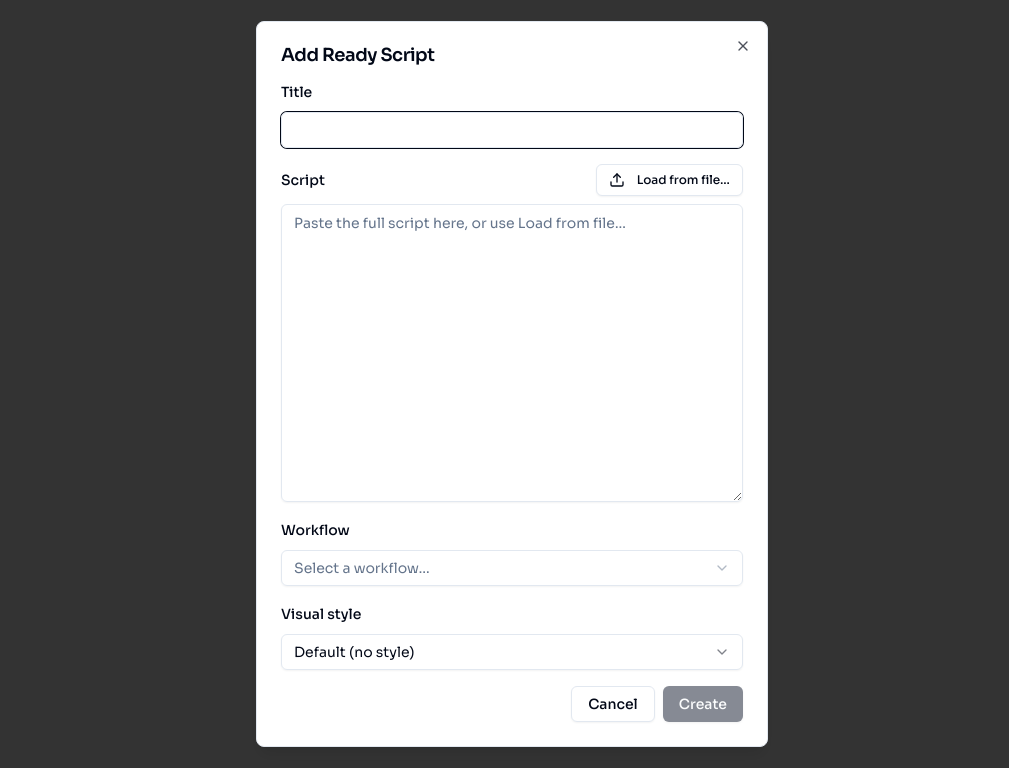
Test: AddReadyScriptModal › submit is disabled until title, script, and workflow are all set
Expected: the button "Create" is disabled, [663,686,743,722]
Type "t" into the field labelled "Title" at (512, 130), box [281,112,743,148]
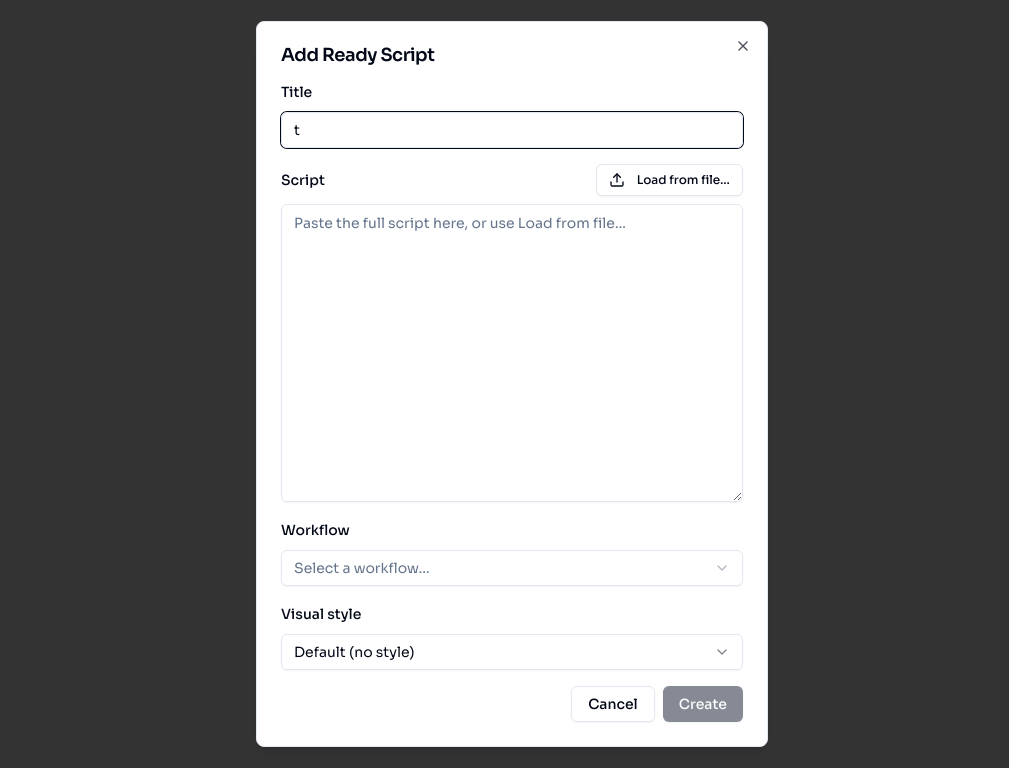
Expected: the button "Create" is disabled, [663,686,743,722]
Type "Hello." into the text box labelled "Script" at (512, 353), box [281,204,743,502]
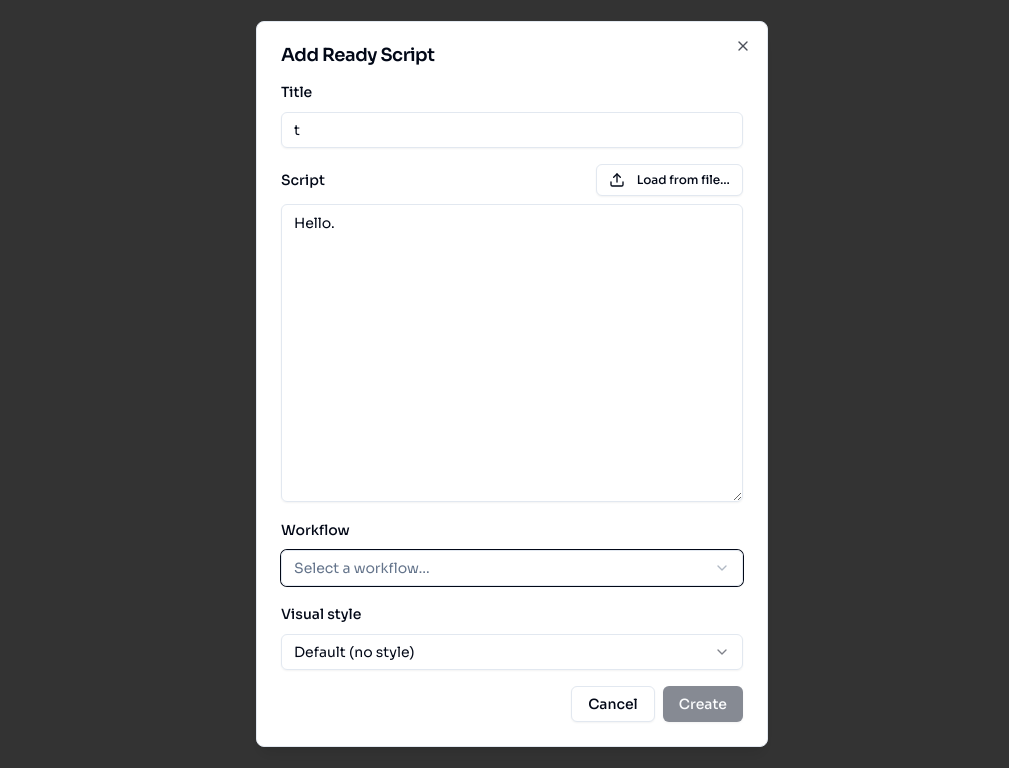
Expected: the button "Create" is disabled, [663,686,743,722]
Press Enter in the dropdown labelled "Select a workflow…", box [281,550,743,586]
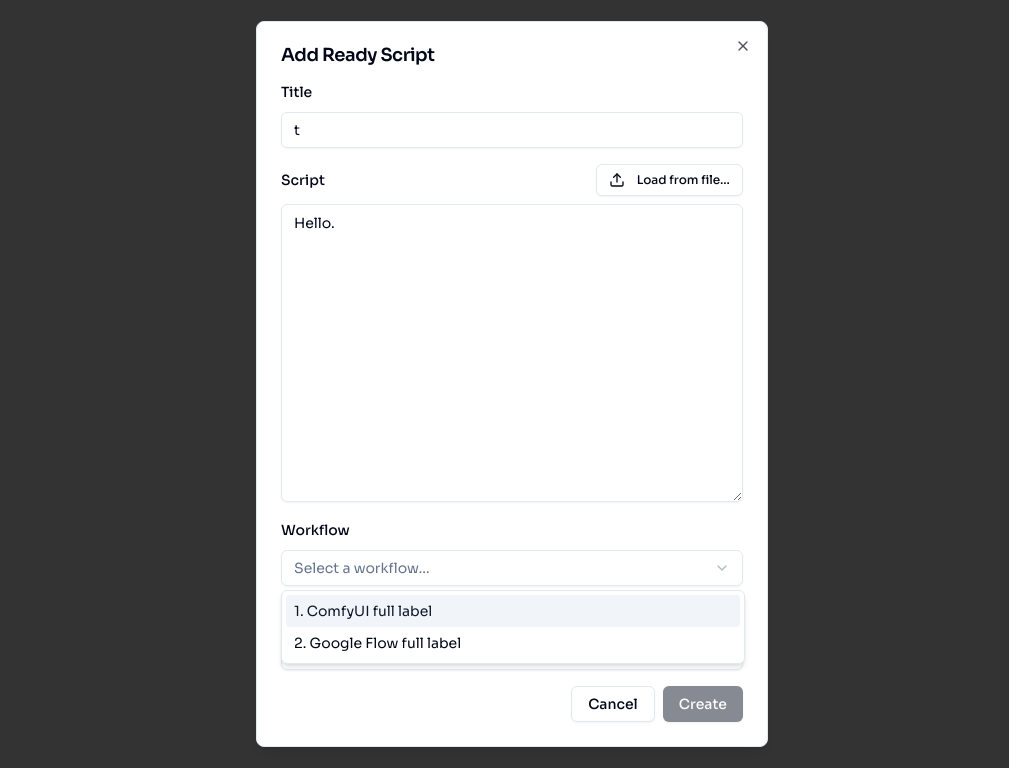
Click the option "1. ComfyUI full label" at (370, 611), box [286,595,740,627]
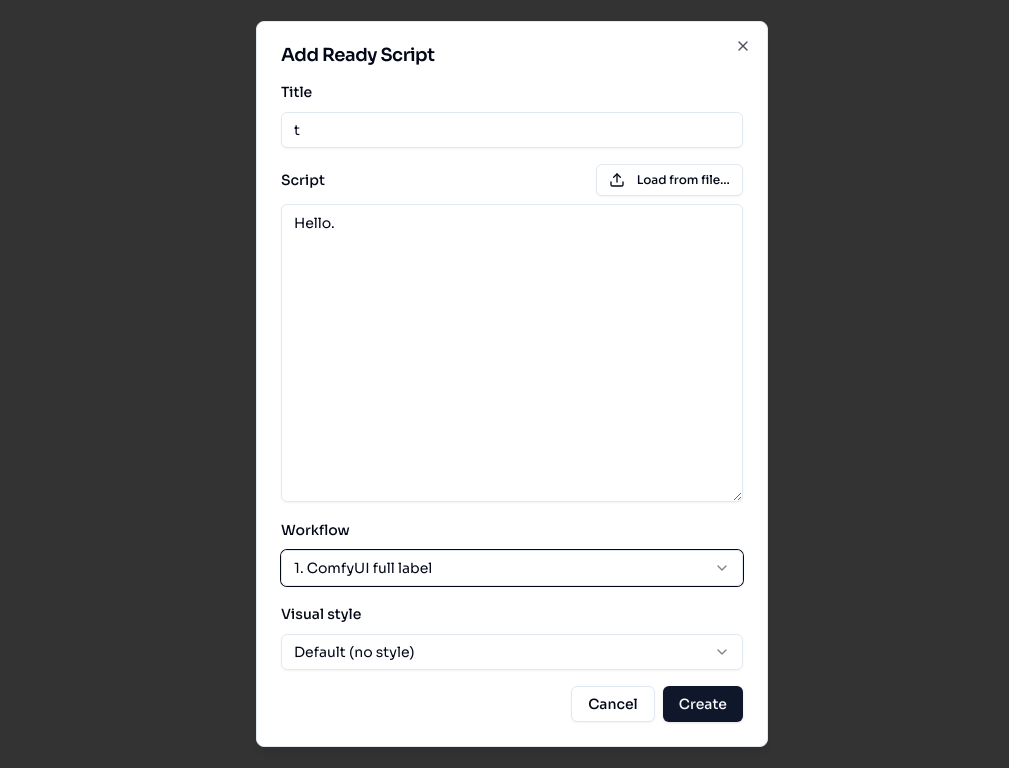
Result: the button "Create" is enabled at [663,686,743,722]
